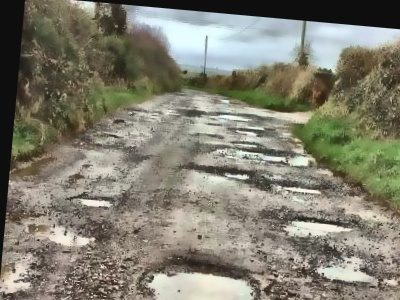pothole: (135, 253, 263, 300), (27, 217, 102, 248), (311, 253, 382, 284), (0, 253, 40, 298), (183, 160, 260, 182), (291, 215, 356, 233), (68, 190, 115, 207), (232, 125, 267, 137), (289, 153, 316, 167)
